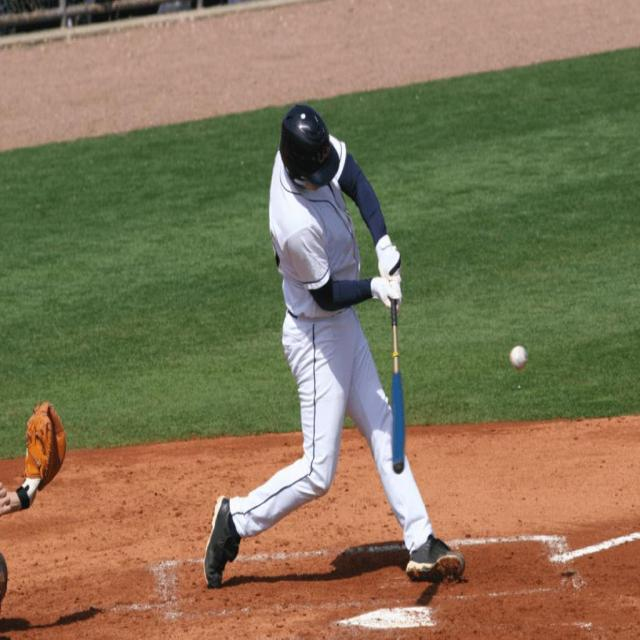baseball: (508, 348, 530, 373)
